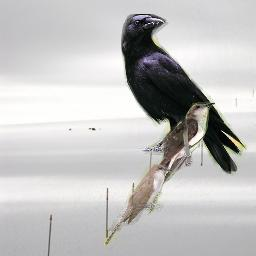Crow: (121, 14, 247, 176)
Cuckoo: (148, 102, 215, 215), (104, 164, 174, 246)
